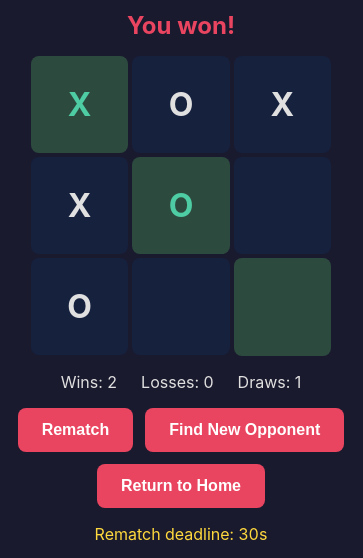
Scenario: PostMatch › shows "Waiting..." after rematch clicked
Click the button "Rematch".
click(76, 430)  # box [18,408,133,452]
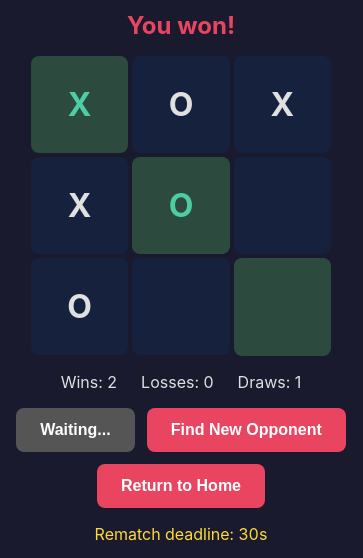
Expected: the button "Waiting..." is shown, [16,408,135,452]
